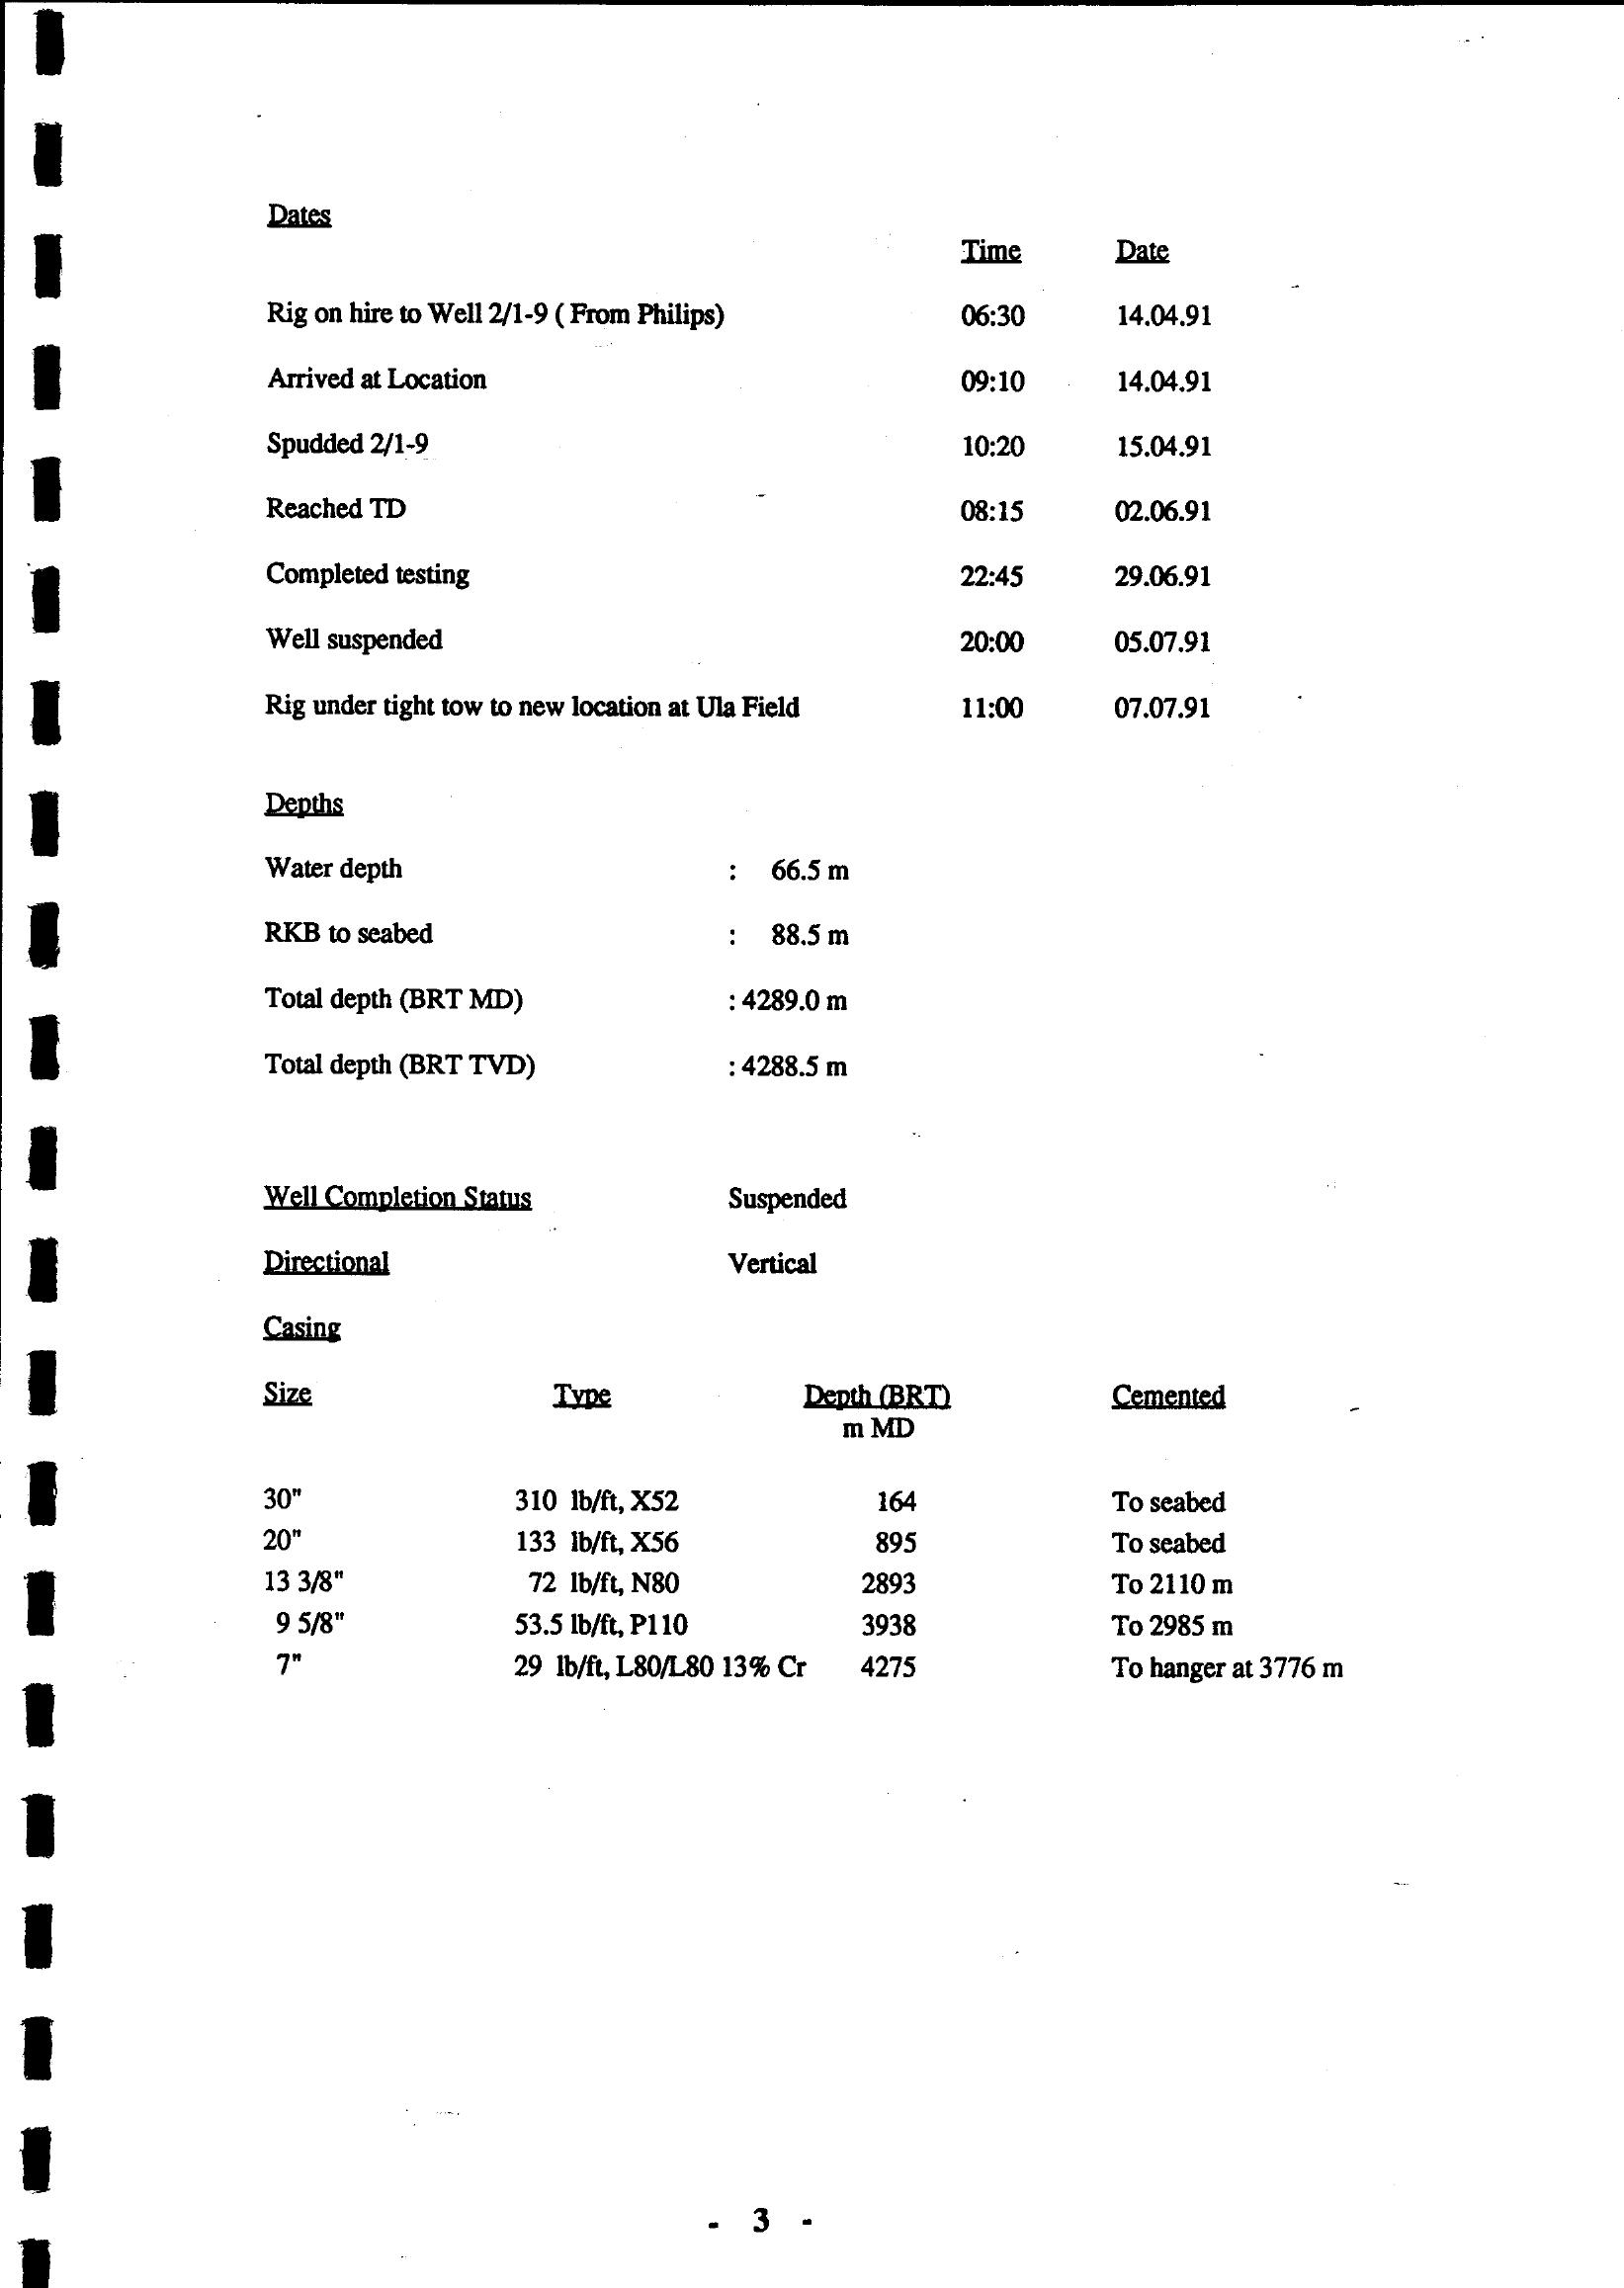table: (211, 163, 1276, 771), (251, 1314, 1392, 1752)
text: (243, 791, 939, 1121), (213, 1163, 940, 1297)
